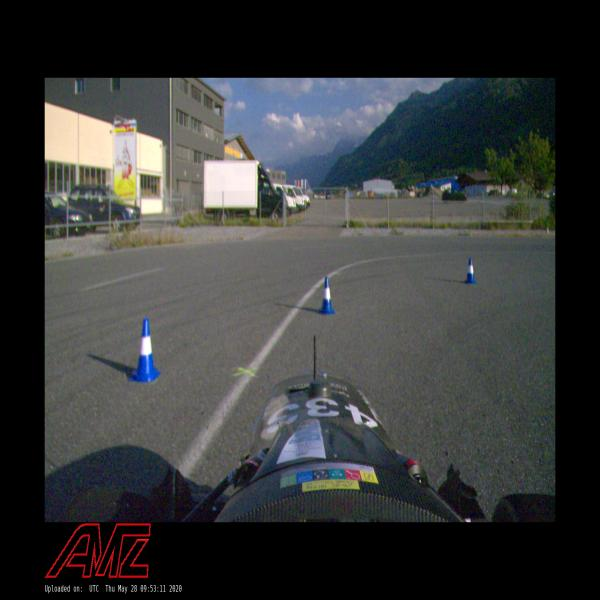blue_cone: (128, 318, 162, 382), (318, 276, 336, 314), (465, 257, 476, 284)
